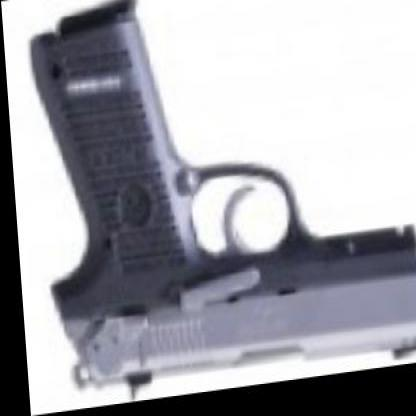pistol: (26, 0, 415, 412)
